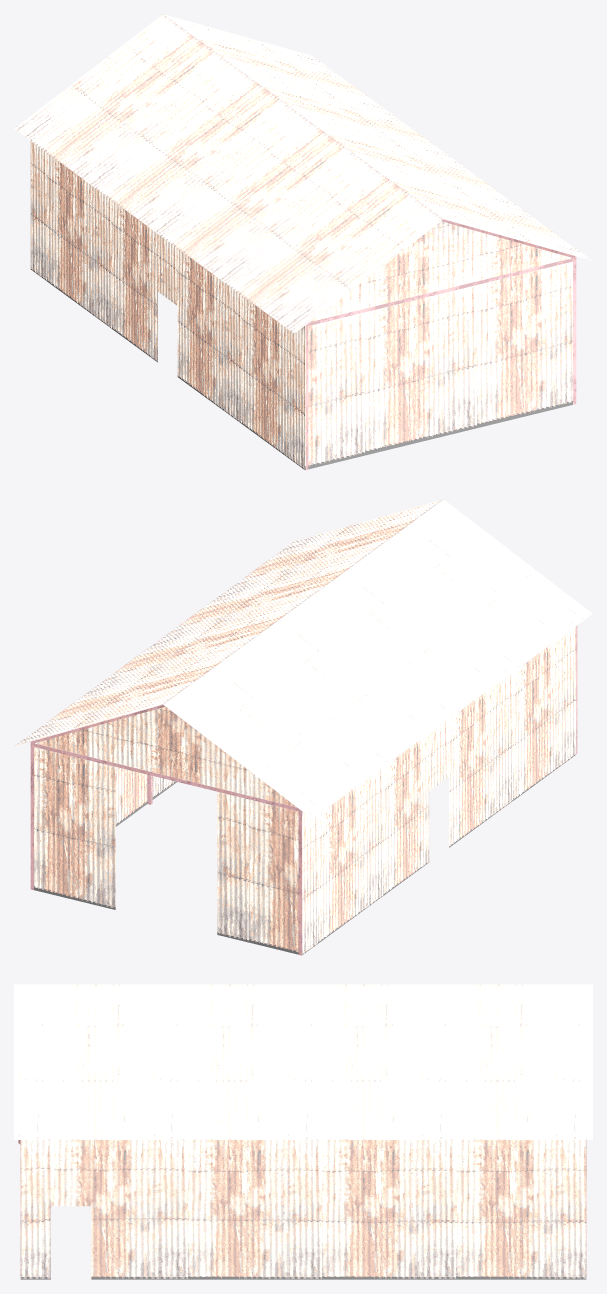
The model's file is large_shedA.glb.
3 views of the same model, one above another, from view 1: azimuth 30°, elevation 25°; view 2: azimuth 150°, elevation 25°; view 3: azimuth 270°, elevation 25° (orthographic). The views are drawn at different scales.
Parts seen in each view (by area): view 1: Shed A, Shed A Frame; view 2: Shed A, Shed A Frame; view 3: Shed A.
Boxes of the visible parts, x1=… form: Shed A: x1=14, y1=14, x2=592, y2=469; Shed A Frame: x1=306, y1=219, x2=576, y2=470; Shed A: x1=15, y1=499, x2=592, y2=955; Shed A Frame: x1=30, y1=625, x2=577, y2=955; Shed A: x1=14, y1=984, x2=592, y2=1279.
Bounding box in the file's own units: 8.8 × 6.2 × 14.32.
